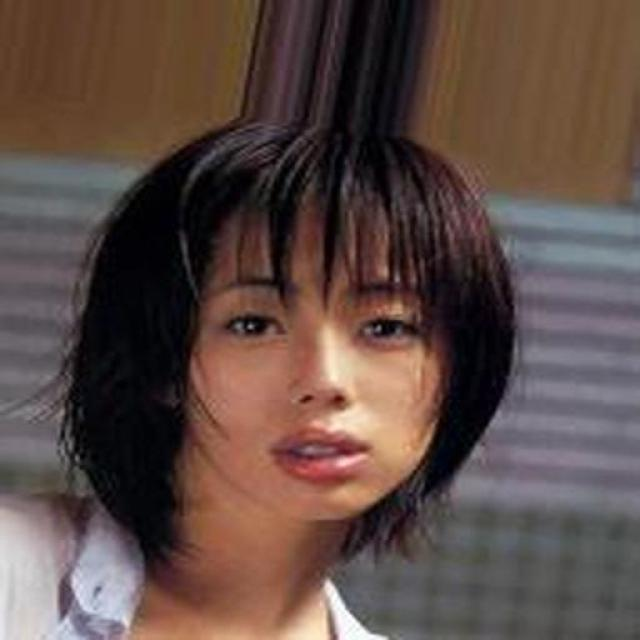bareface: (121, 128, 519, 522)
